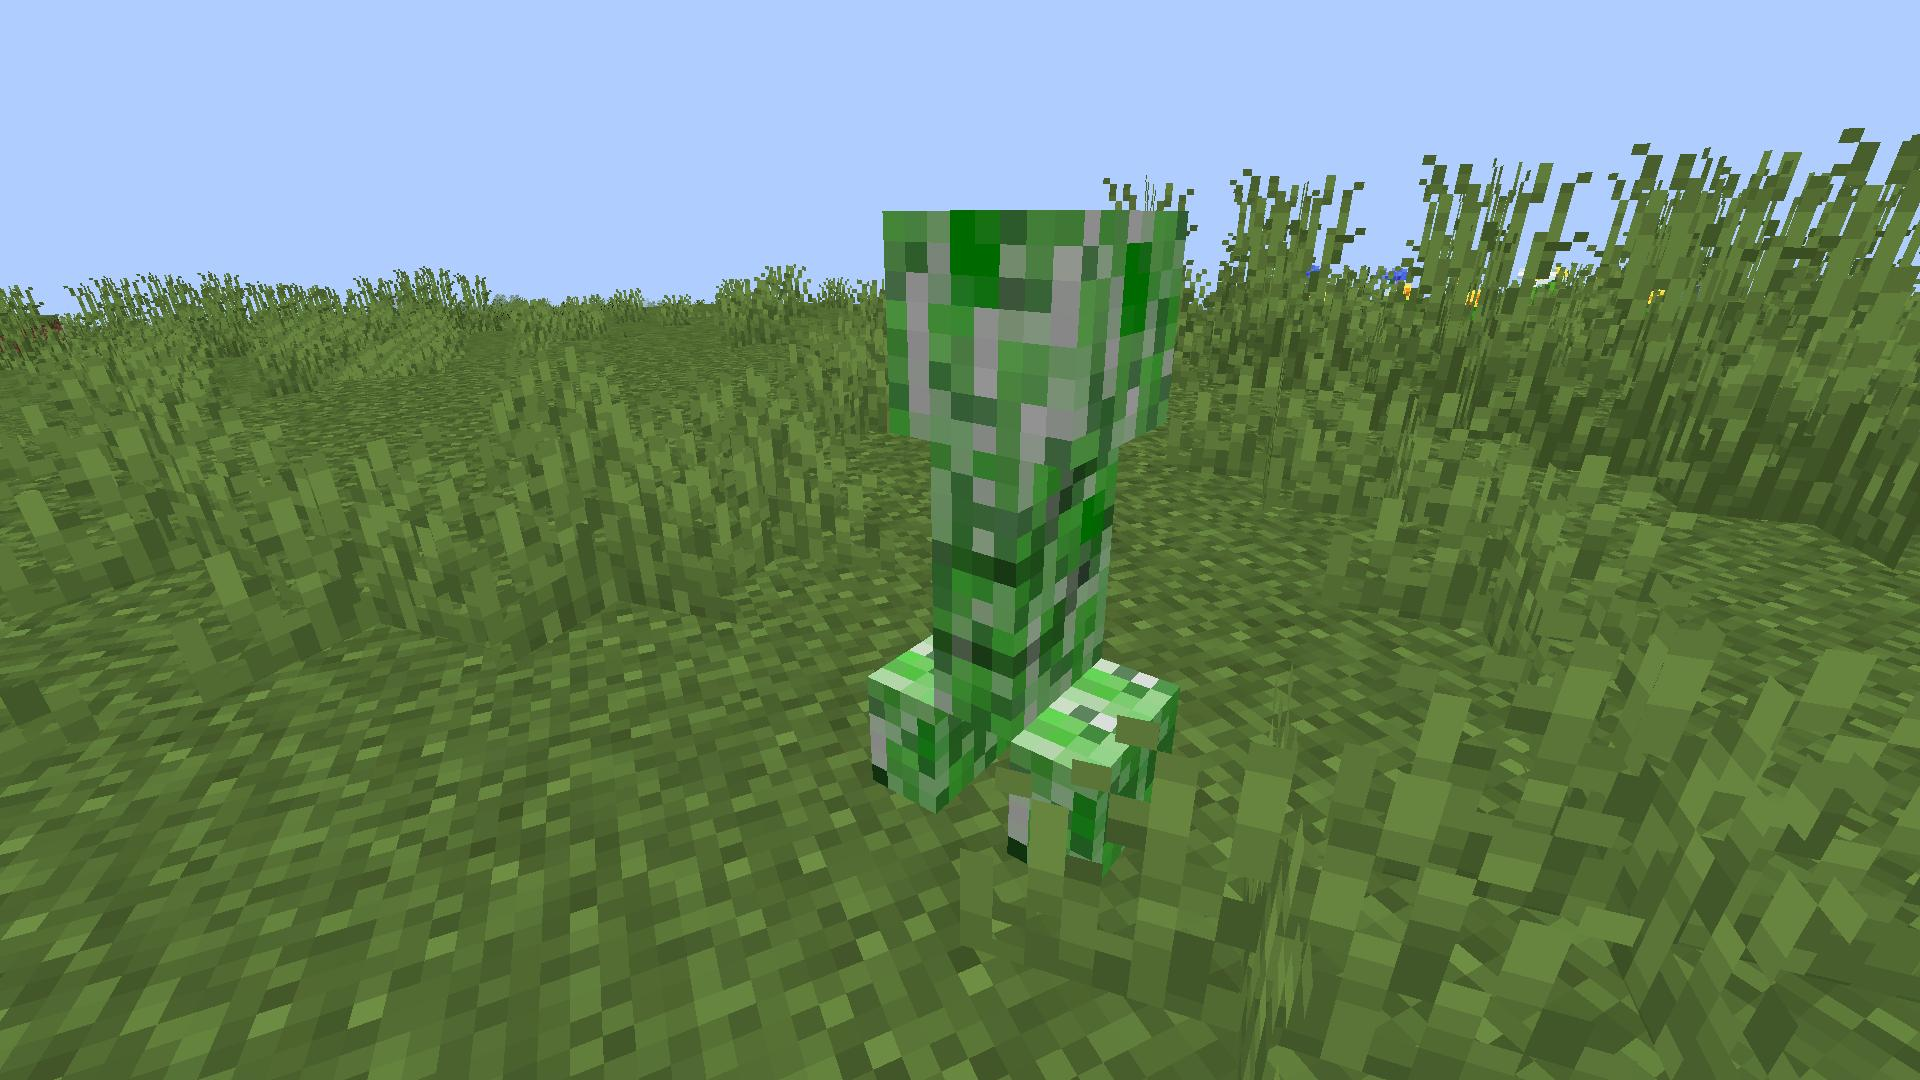creeper: (851, 178, 1197, 894)
